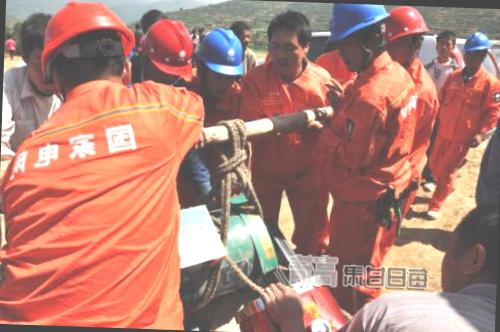no_helmet: (428, 195, 499, 300), (255, 7, 314, 77), (16, 7, 53, 94), (434, 28, 458, 64)
